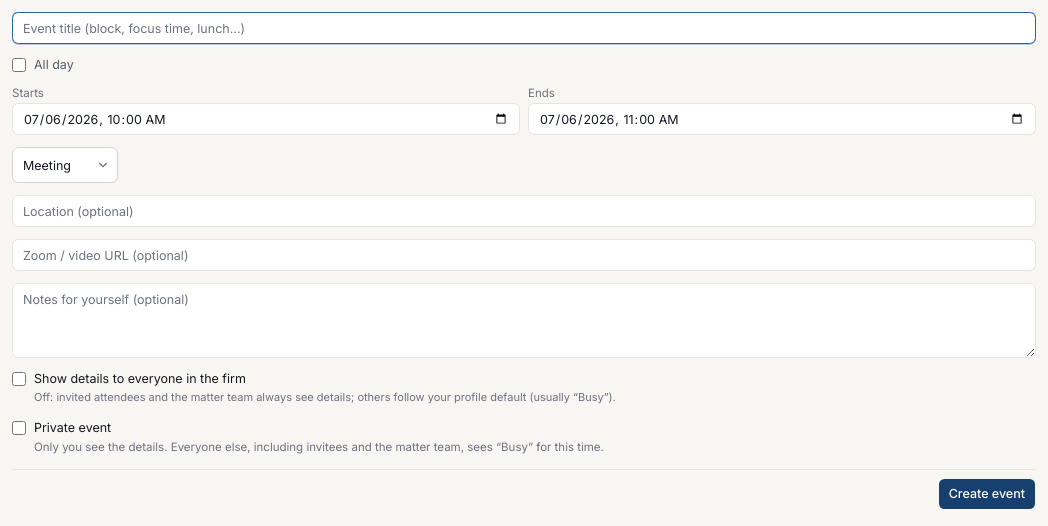
Scenario: NewEventComposer › closes the dock on success without a second router.refresh
Step 1. Type "Focus time" into the field with placeholder "Event title (block, focus time, lunch…)" → (524, 28), box top-left (12, 12), bottom-right (1036, 44)
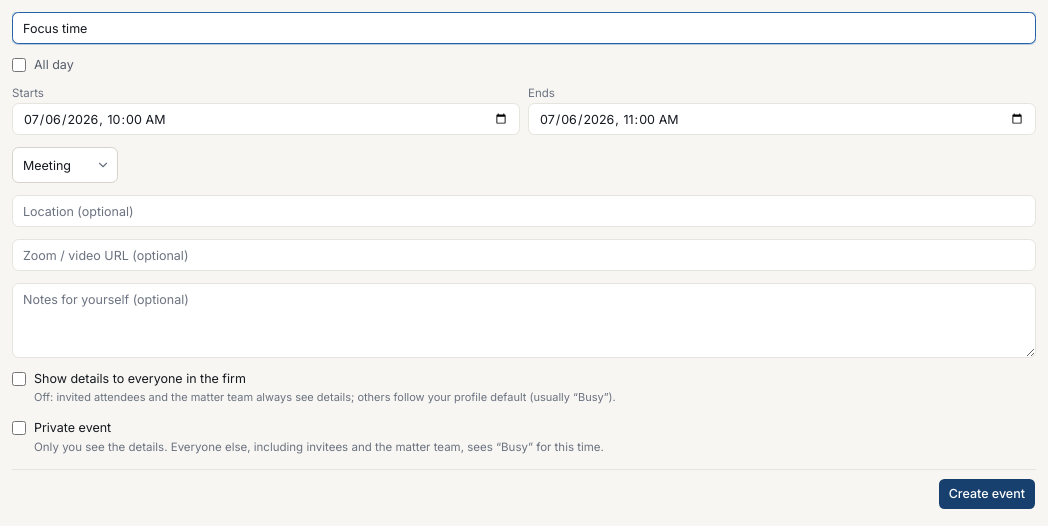
Step 2. Submit the form named "create event"
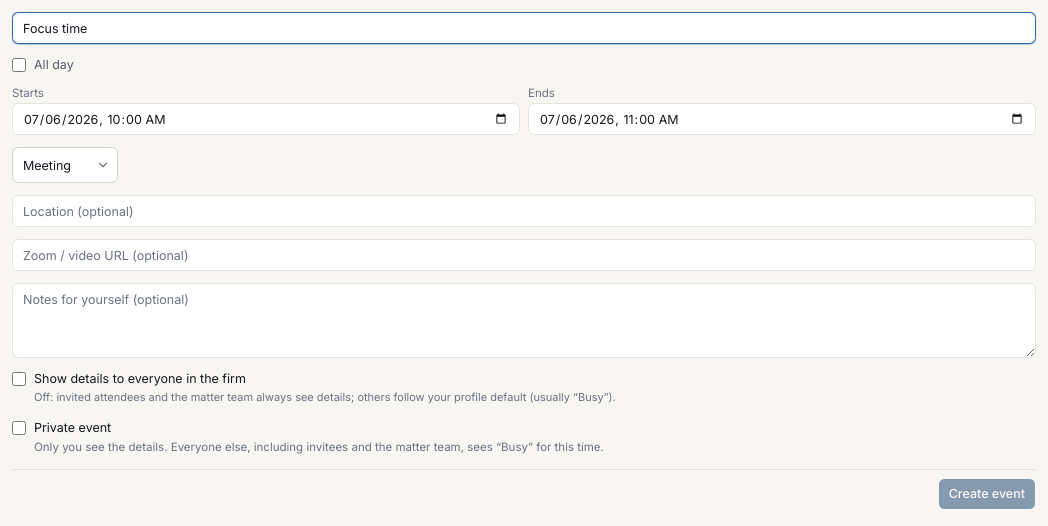
Check: the button "Create event" is disabled, box top-left (938, 478), bottom-right (1036, 510)
